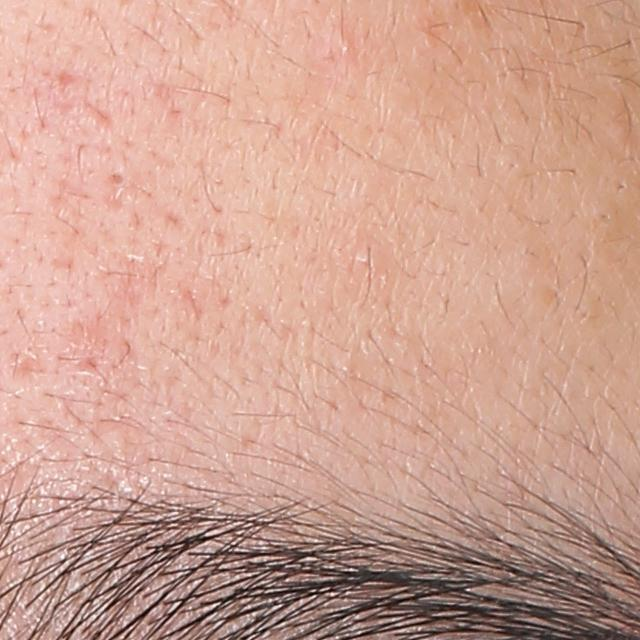atrophic_scar: (60, 250, 158, 383), (8, 348, 50, 390)
comedo: (106, 167, 129, 192), (337, 41, 354, 56)
